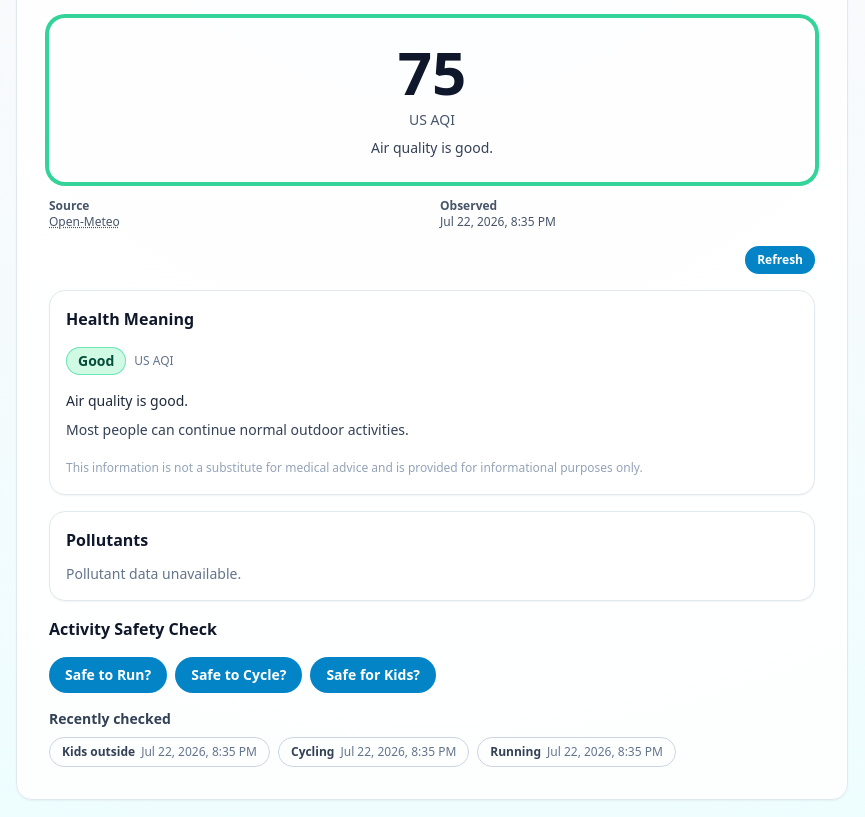
Activity Safety Check – Kids golden path › AQI 75: tapping Safe for Kids? shows Limit activity with sensitive-group/children framing
(page scrolled)
Expected: the button "Safe to Run?" is shown, 49,657 -> 167,693
Click the button "Safe for Kids?": (373, 675) 310,657 -> 436,693
(page scrolled)
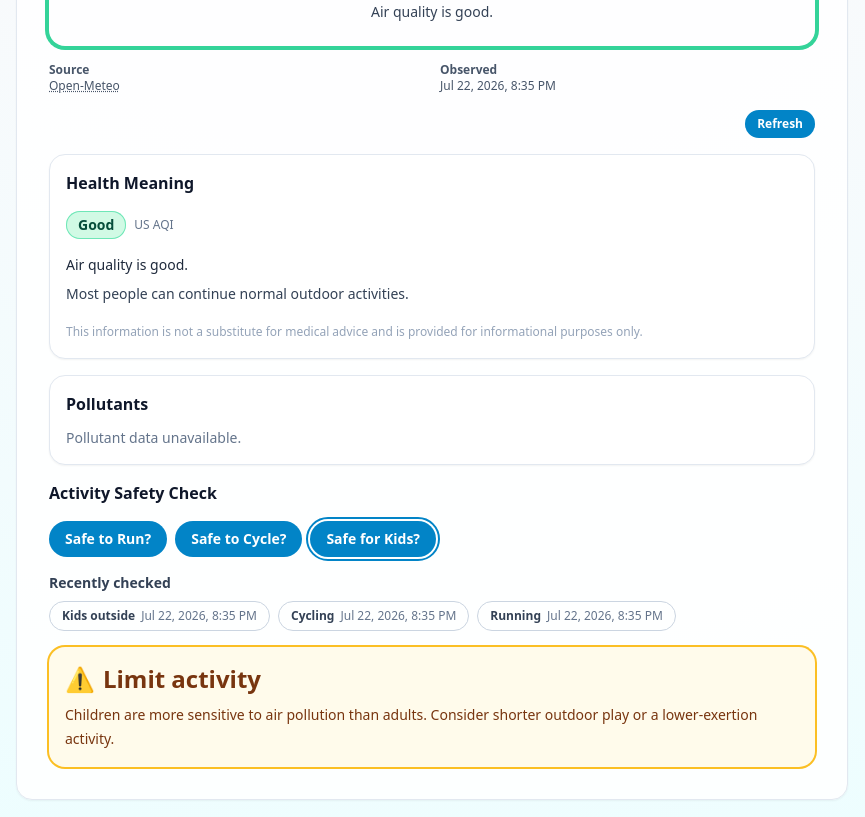
Now the text "Limit activity" is shown, box 103,663 -> 261,695
